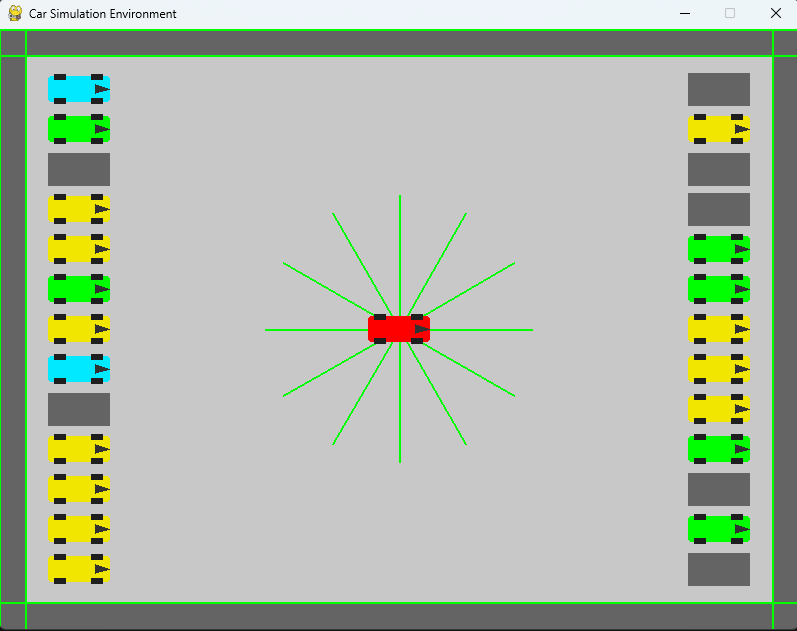ControlledCar: (362, 306, 441, 351)
ParkedCar: (686, 312, 755, 352), (43, 429, 112, 467), (689, 231, 752, 271), (48, 550, 112, 589), (43, 312, 114, 346), (684, 433, 755, 466), (689, 510, 752, 547), (47, 70, 113, 105), (48, 511, 114, 546), (45, 271, 112, 305), (46, 190, 110, 225), (46, 112, 113, 145), (686, 394, 749, 429), (45, 232, 111, 265), (45, 472, 111, 505), (45, 354, 114, 385), (689, 275, 753, 307), (685, 113, 753, 143), (690, 354, 752, 385)
ParkingSpot: (679, 70, 755, 111), (685, 145, 754, 189), (40, 151, 115, 187), (687, 552, 754, 591), (686, 190, 753, 228), (685, 473, 756, 507), (47, 392, 114, 426)
